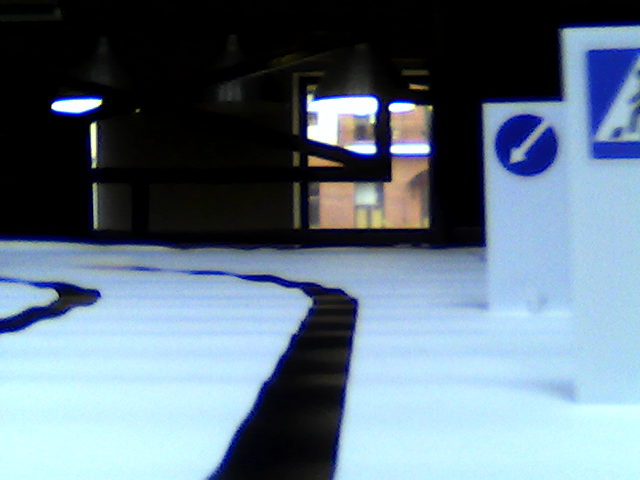pesh: (580, 43, 640, 159)
prep: (492, 111, 563, 177)
